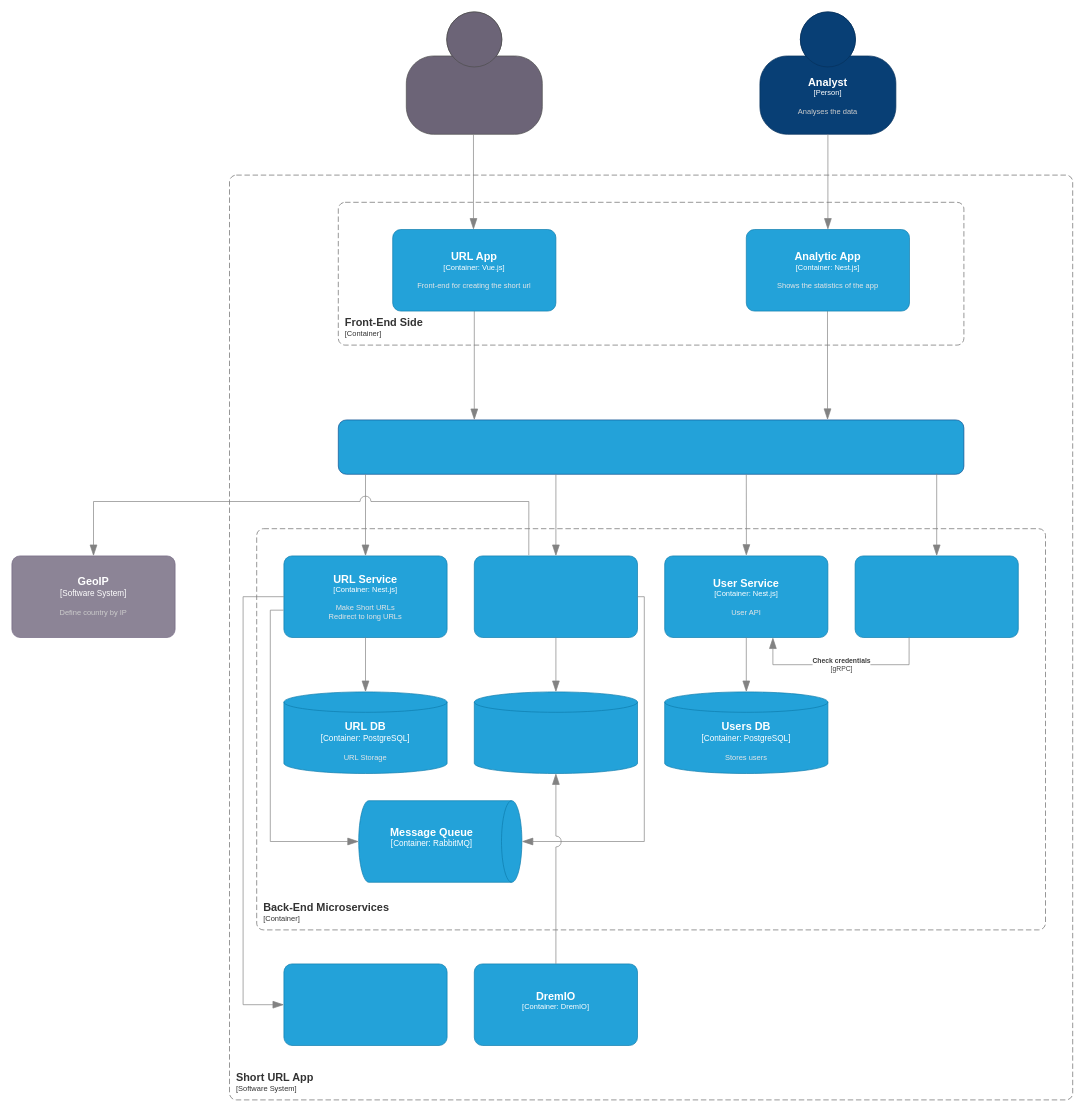
Some shapes in this 1085 by 1112 pixel diagram are drawn without their labels. The shapes that lost their labels are listed below. From the top down, each one's centre as x and y in pixels, then its label:
point (474, 72): User [Person] Uses the Short URl
point (651, 446): Load Balancer
point (556, 596): Analytic Service [Container: Nest.js] Handle data for analytics
point (936, 596): Auth Service [Container: JWT] Authorization
point (556, 732): AnalyticDB [Container: MongoDB] Stores Analytic data
point (365, 1004): Cache Service [Container: Redis] Stores data in cache
